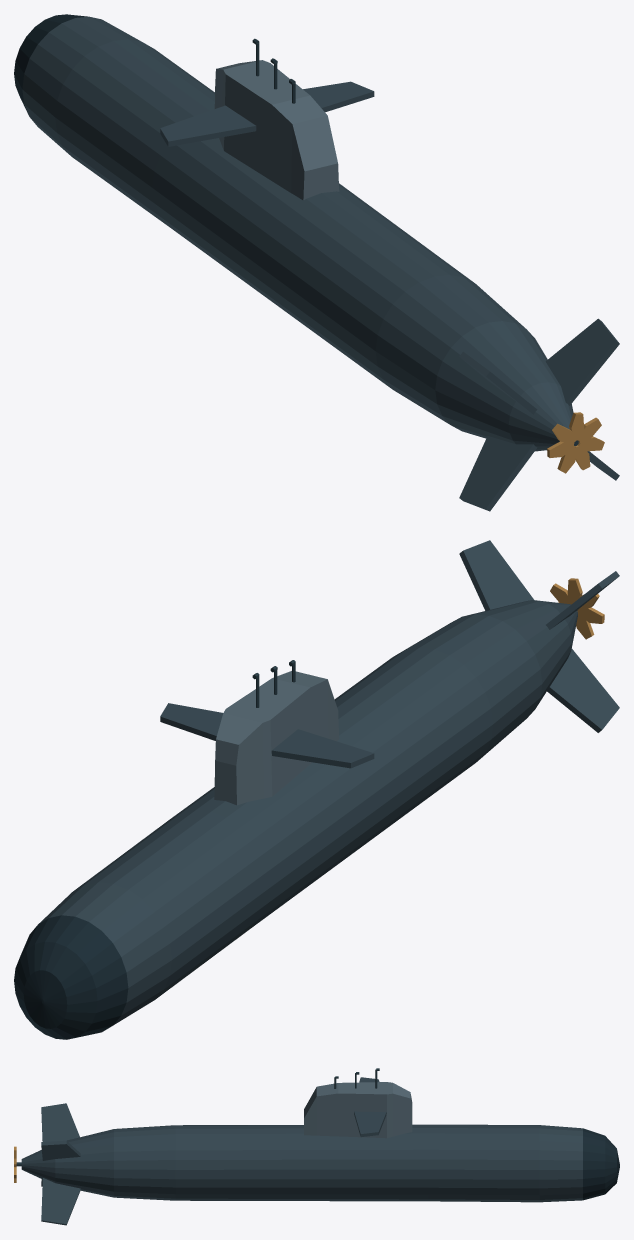
The model's file is archive-type-212a.glb.
3 views of the same model, one above another, from view 1: azimuth 30°, elevation 25°; view 2: azimuth 150°, elevation 25°; view 3: azimuth 270°, elevation 25° (orthographic). The views are drawn at different scales.
Visible parts, largest first — view 1: archive-type-212a-pressure_hull.006-geometry, archive-type-212a-submarine_sail.006-geometry, archive-type-212a-stern_rudder_1.001-geometry, archive-type-212a-stern_rudder_3.001-geometry, archive-type-212a-diving_plane_-1.006-geometry, archive-type-212a-screw_0.006-geometry, archive-type-212a-diving_plane_1.006-geometry, archive-type-212a-stern_rudder_2.001-geometry; view 2: archive-type-212a-pressure_hull.006-geometry, archive-type-212a-submarine_sail.006-geometry, archive-type-212a-stern_rudder_1.001-geometry, archive-type-212a-stern_rudder_3.001-geometry, archive-type-212a-diving_plane_-1.006-geometry, archive-type-212a-diving_plane_1.006-geometry, archive-type-212a-screw_0.006-geometry, archive-type-212a-stern_rudder_2.001-geometry; view 3: archive-type-212a-pressure_hull.006-geometry, archive-type-212a-submarine_sail.006-geometry, archive-type-212a-stern_rudder_0.001-geometry, archive-type-212a-stern_rudder_2.001-geometry, archive-type-212a-diving_plane_1.006-geometry, archive-type-212a-stern_rudder_3.001-geometry.
Part boxes in pixels (<box>): archive-type-212a-pressure_hull.006-geometry: <box>14,14,573,451</box>; archive-type-212a-submarine_sail.006-geometry: <box>214,38,339,200</box>; archive-type-212a-stern_rudder_1.001-geometry: <box>459,436,537,511</box>; archive-type-212a-stern_rudder_3.001-geometry: <box>545,318,619,405</box>; archive-type-212a-diving_plane_-1.006-geometry: <box>160,105,256,146</box>; archive-type-212a-screw_0.006-geometry: <box>547,412,604,473</box>; archive-type-212a-diving_plane_1.006-geometry: <box>303,81,374,112</box>; archive-type-212a-stern_rudder_2.001-geometry: <box>459,351,537,414</box>; archive-type-212a-pressure_hull.006-geometry: <box>14,600,577,1039</box>; archive-type-212a-submarine_sail.006-geometry: <box>214,660,339,805</box>; archive-type-212a-stern_rudder_1.001-geometry: <box>547,648,619,732</box>; archive-type-212a-stern_rudder_3.001-geometry: <box>459,540,534,610</box>; archive-type-212a-diving_plane_-1.006-geometry: <box>271,729,374,768</box>; archive-type-212a-diving_plane_1.006-geometry: <box>160,703,223,740</box>; archive-type-212a-screw_0.006-geometry: <box>550,578,604,639</box>; archive-type-212a-stern_rudder_2.001-geometry: <box>546,571,619,629</box>; archive-type-212a-pressure_hull.006-geometry: <box>21,1124,619,1202</box>; archive-type-212a-submarine_sail.006-geometry: <box>304,1068,412,1138</box>; archive-type-212a-stern_rudder_0.001-geometry: <box>41,1178,80,1225</box>; archive-type-212a-stern_rudder_2.001-geometry: <box>41,1103,79,1141</box>; archive-type-212a-diving_plane_1.006-geometry: <box>354,1111,386,1137</box>; archive-type-212a-stern_rudder_3.001-geometry: <box>41,1140,80,1160</box>.
Size of the model in its own units: 2.19 by 2.47 by 9.82.
